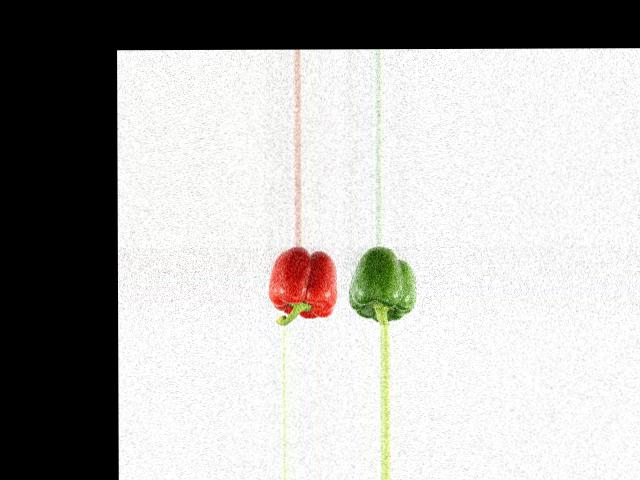bell_pepper: (345, 249, 419, 324)
